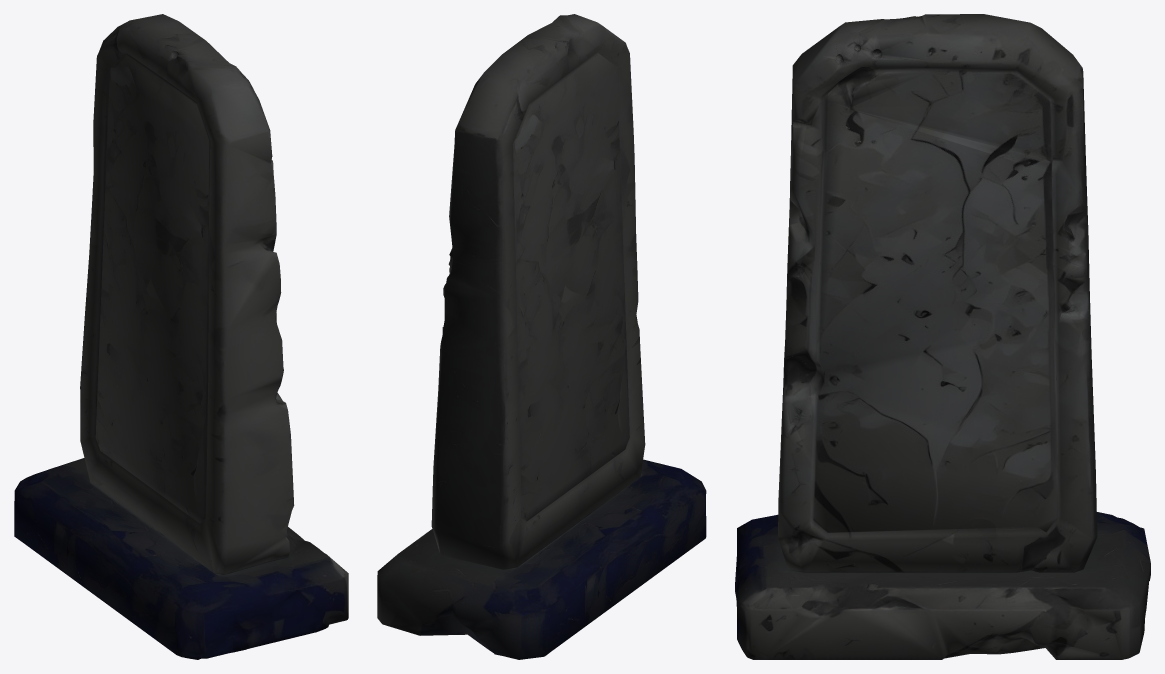
The model's file is surface-monolith.glb.
3 views of the same model, side by side, from view 1: azimuth 30°, elevation 25°; view 2: azimuth 150°, elevation 25°; view 3: azimuth 270°, elevation 25° (orthographic). The views are drawn at different scales.
Visible parts, largest first — view 1: tripo_node_51008f89-1fde-49d7-8c60-0aa0d34f9e02; view 2: tripo_node_51008f89-1fde-49d7-8c60-0aa0d34f9e02; view 3: tripo_node_51008f89-1fde-49d7-8c60-0aa0d34f9e02.
Boxes of the visible parts, x1,y1,x2,y2 form: tripo_node_51008f89-1fde-49d7-8c60-0aa0d34f9e02: (14, 14, 348, 659); tripo_node_51008f89-1fde-49d7-8c60-0aa0d34f9e02: (377, 14, 706, 659); tripo_node_51008f89-1fde-49d7-8c60-0aa0d34f9e02: (735, 14, 1150, 659).
Bounding box in the file's own units: 0.3286 × 0.9995 × 0.6343.
1 material, 1 textured.
